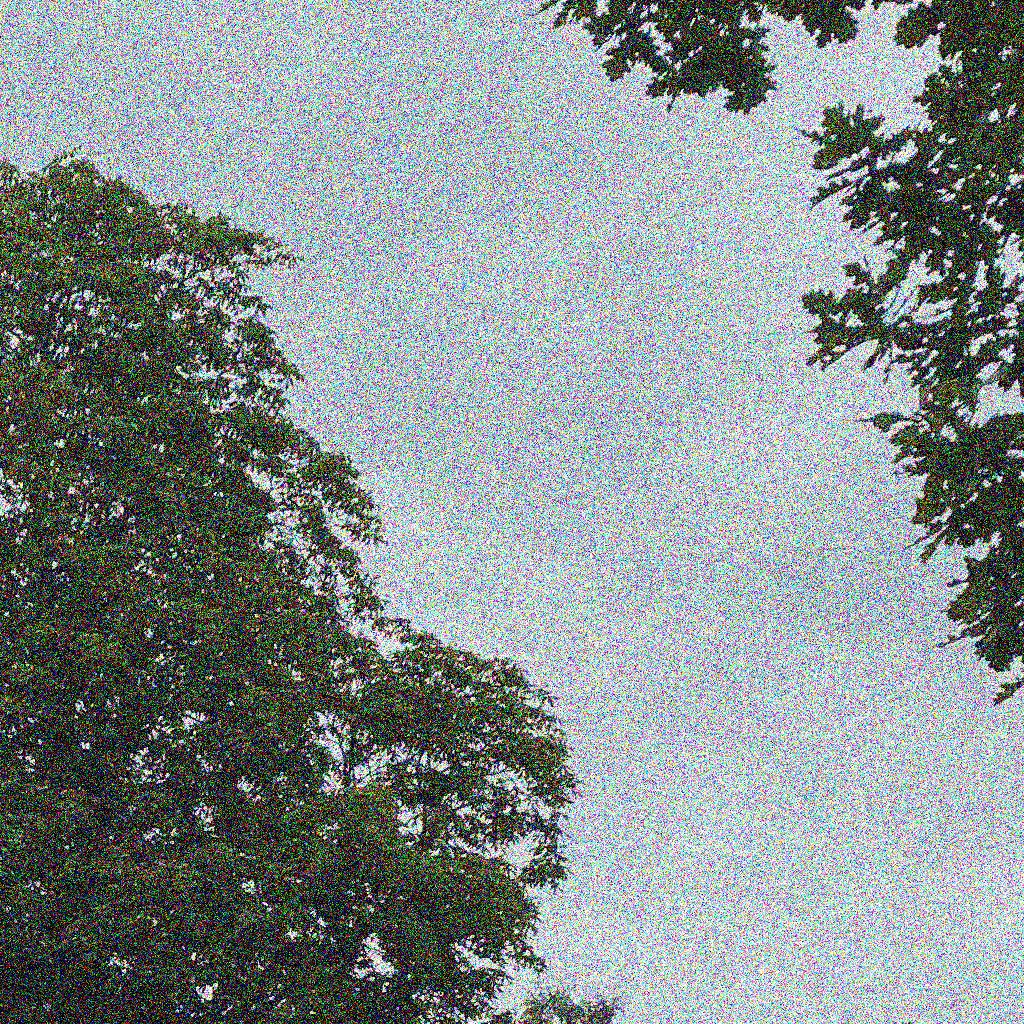tree: (1, 151, 579, 1023), (530, 1, 1024, 706)
